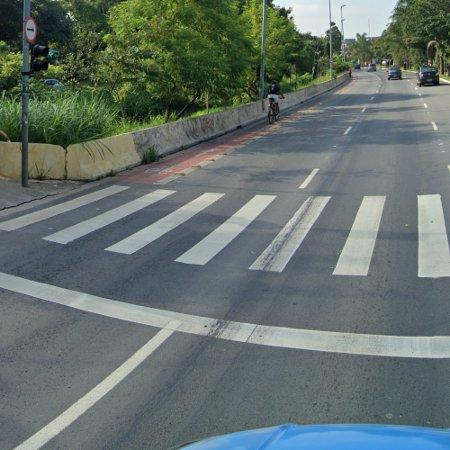crosswalks: (0, 186, 450, 277)
